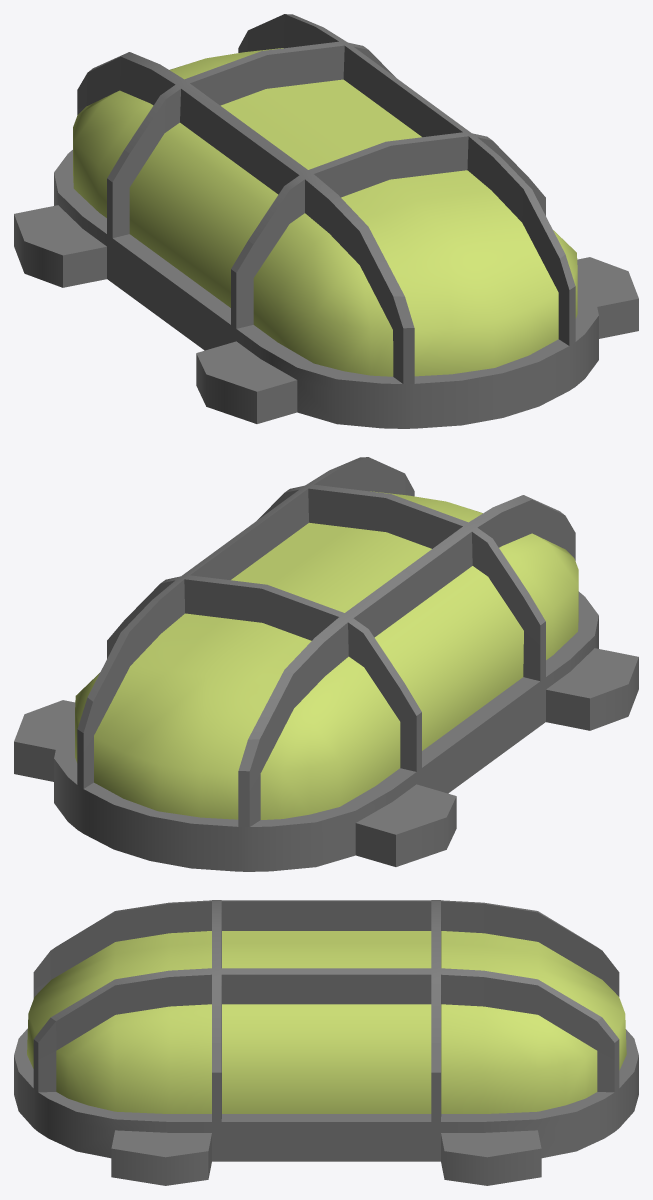
Rendered from TheSmallight.fbx.
3 views of the same model, one above another, from view 1: azimuth 30°, elevation 25°; view 2: azimuth 150°, elevation 25°; view 3: azimuth 270°, elevation 25° (orthographic). The views are drawn at different scales.
Visible parts, largest first — view 1: Box001; view 2: Box001; view 3: Box001.
Boxes of the visible parts, x1,y1,x2,y2 form: Box001: [14, 14, 638, 428]; Box001: [14, 457, 638, 871]; Box001: [14, 900, 638, 1185].
Size of the model in its own units: 20.92 by 9.01 by 30.3.
